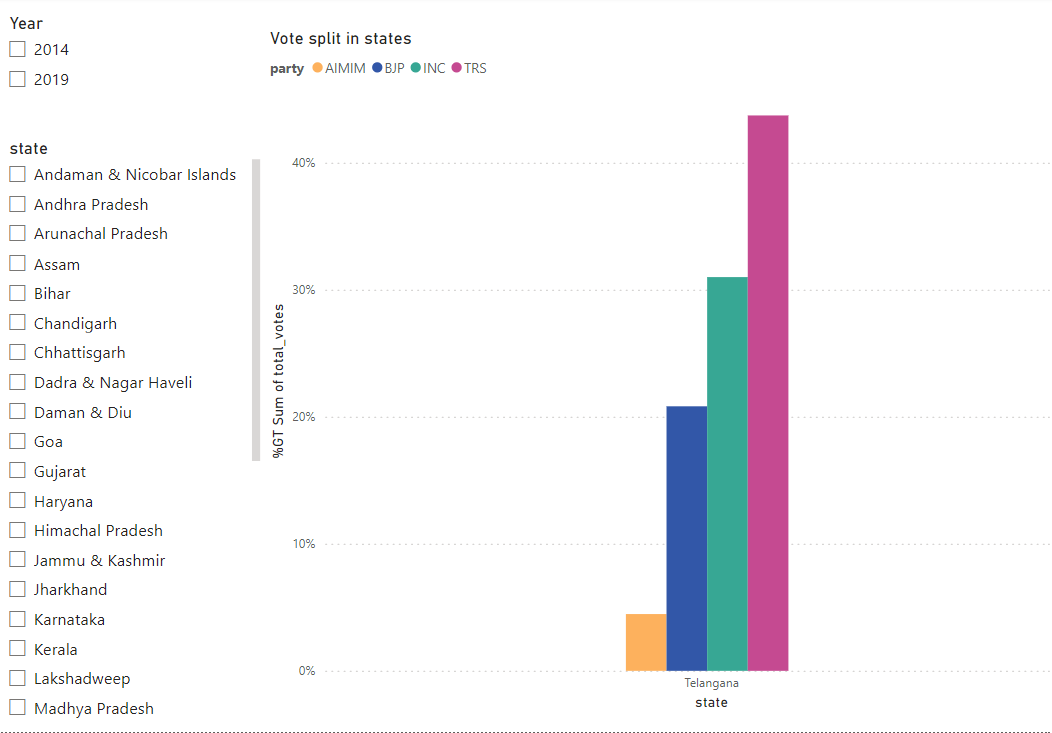

What the dashboard file says about the page in this screenshot:
{"tool":"powerbi","page":{"name":"Vote Split StateWise","canvas":[1280,720],"ordinal":3},"visuals":[{"type":"clusteredColumnChart","title":"Vote split in states","fields":{"Category":["merged_table.state"],"Y":["Sum(merged_table.total_votes)"],"Series":["merged_table.party"]},"box":[263.3,30,820,673.3],"z":0},{"type":"slicer","fields":{"Values":["merged_table.state"]},"box":[0,133.3,263.3,586.7],"z":1000},{"type":"slicer","fields":{"Values":["merged_table.Year"]},"box":[0,11.1,263.3,103.3],"z":2000}]}

Visuals, with their boxes on the page's 1280x720 design canvas (x1, y1, x2, y2). These are canvas units, not pixel positions in the 1052x733 screenshot, which may show the page scaled, cropped or inside an application window:
"Vote split in states" clusteredColumnChart: [263, 30, 1083, 703]
slicer - merged_table.state: [0, 133, 263, 720]
slicer - merged_table.Year: [0, 11, 263, 114]
